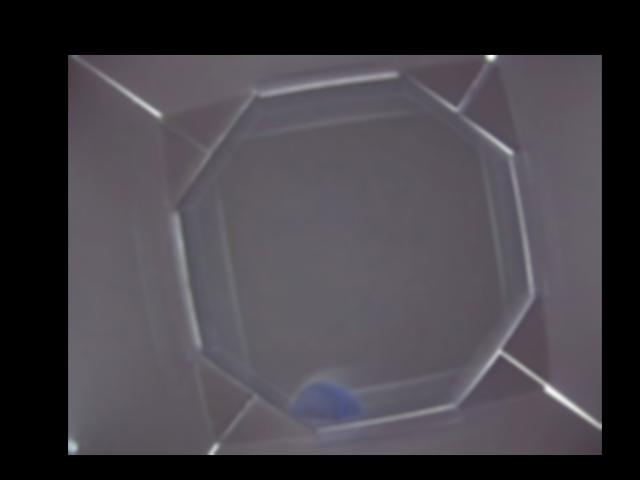Mooli: (289, 383, 365, 419)
